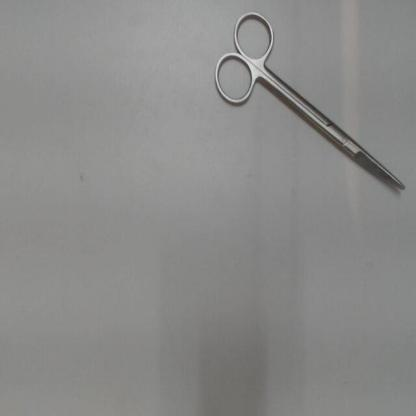Curved Mayo Scissors: (207, 4, 412, 198)
